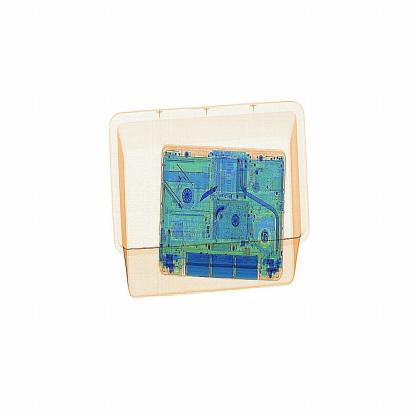pliers: (191, 176, 224, 212)
